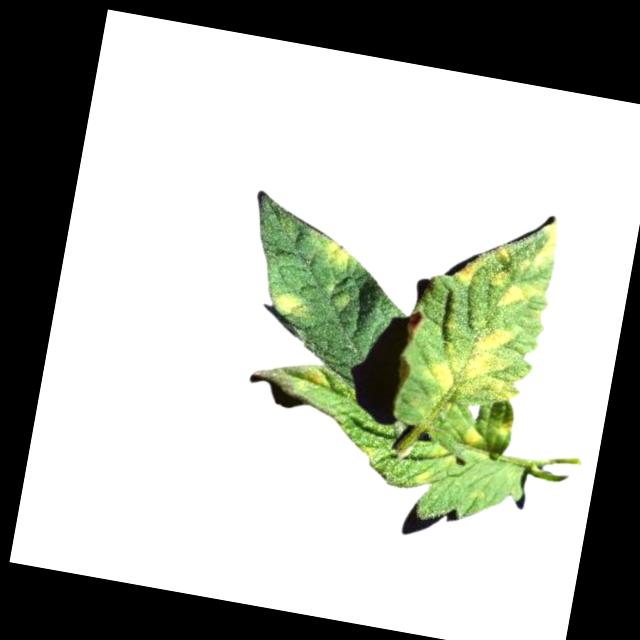Leaf_Mold: (422, 315, 527, 407), (489, 211, 563, 276), (486, 267, 550, 315), (289, 361, 333, 399), (319, 235, 355, 274), (269, 288, 310, 320), (453, 252, 484, 285), (457, 423, 487, 452), (497, 414, 516, 438)
